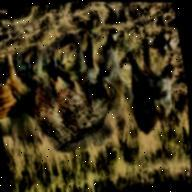boar: (5, 12, 162, 171), (84, 37, 191, 166)
